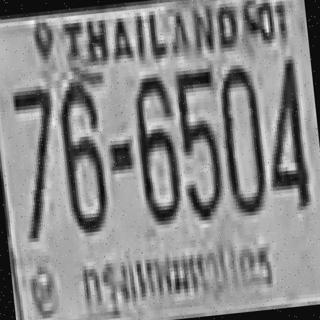N00: (215, 60, 267, 214)
N04: (258, 55, 310, 209)
N05: (174, 64, 226, 218)
N06: (55, 76, 109, 230), (131, 73, 180, 223)
N07: (10, 81, 62, 239)
P04: (74, 231, 281, 320)
